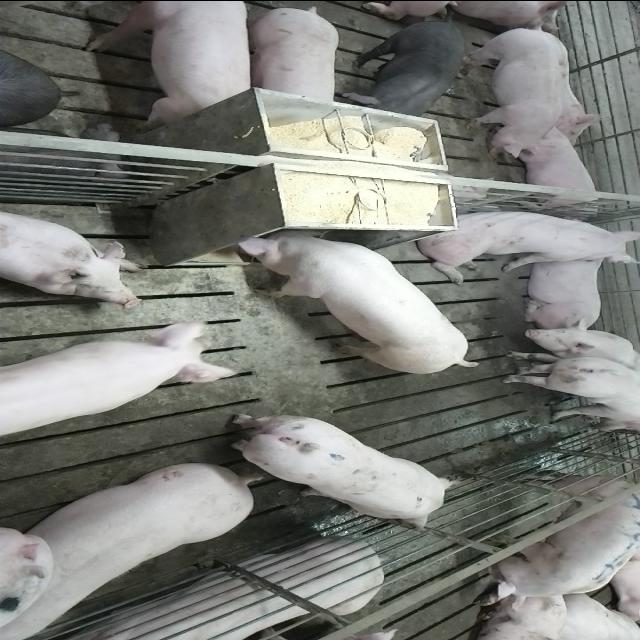Feeding: (231, 220, 478, 370)
Sitting: (409, 204, 636, 278), (496, 324, 638, 373)
Standing: (6, 456, 266, 634), (0, 318, 237, 440), (226, 416, 456, 532), (76, 1, 256, 127), (488, 474, 640, 614), (460, 23, 568, 158), (500, 346, 640, 435), (352, 15, 466, 120), (245, 6, 342, 110)
Sternal_lying: (52, 540, 392, 640), (0, 206, 144, 307), (508, 128, 604, 210), (519, 250, 605, 328)
